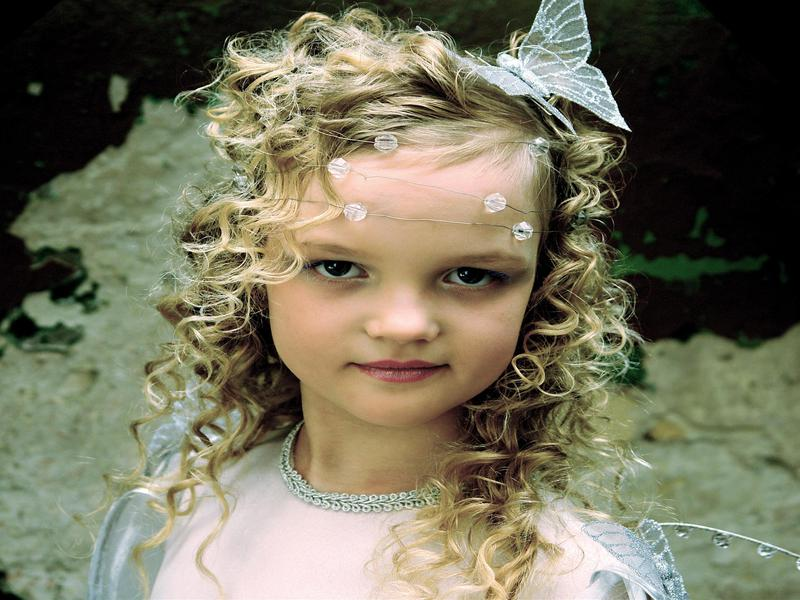person: (85, 8, 690, 600)
